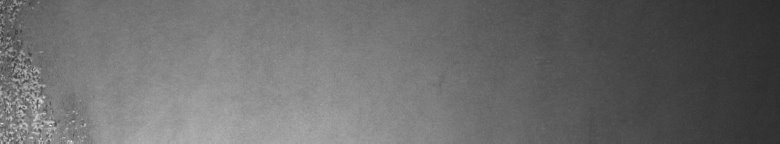hc: (4, 4, 87, 136)
